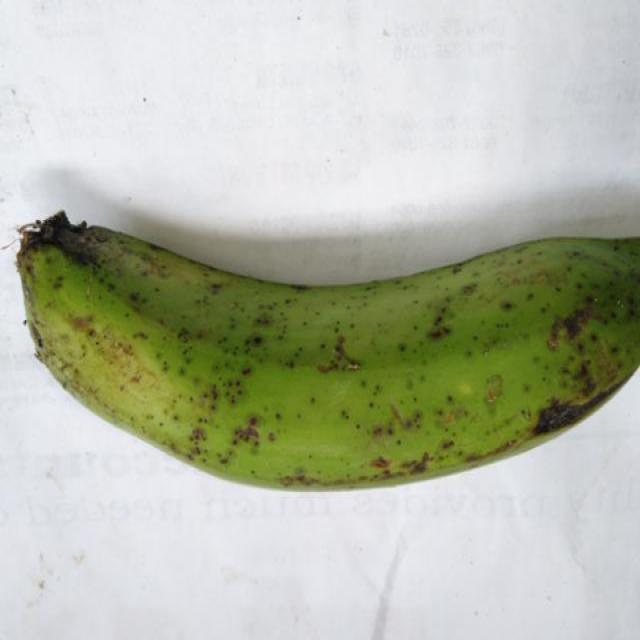Verde: (5, 216, 640, 498)
